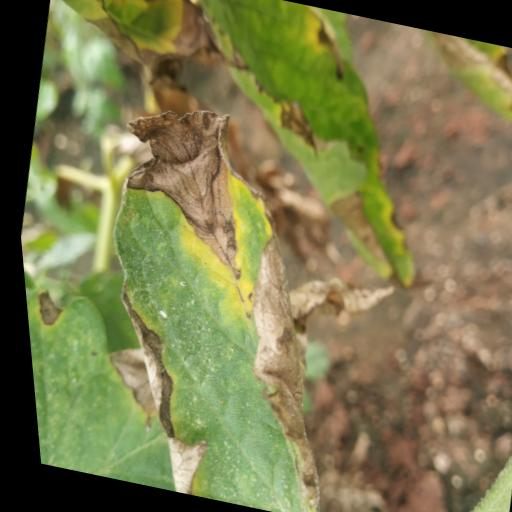Early Blight: (42, 89, 389, 512)
